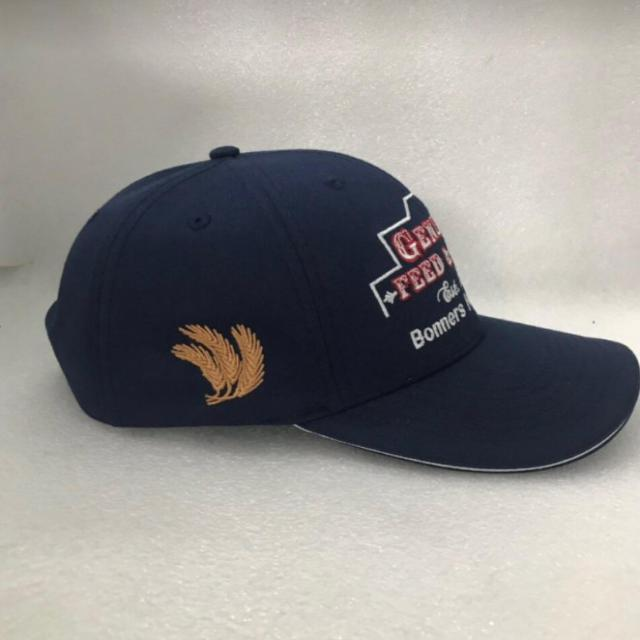Cap: (19, 119, 638, 481)
